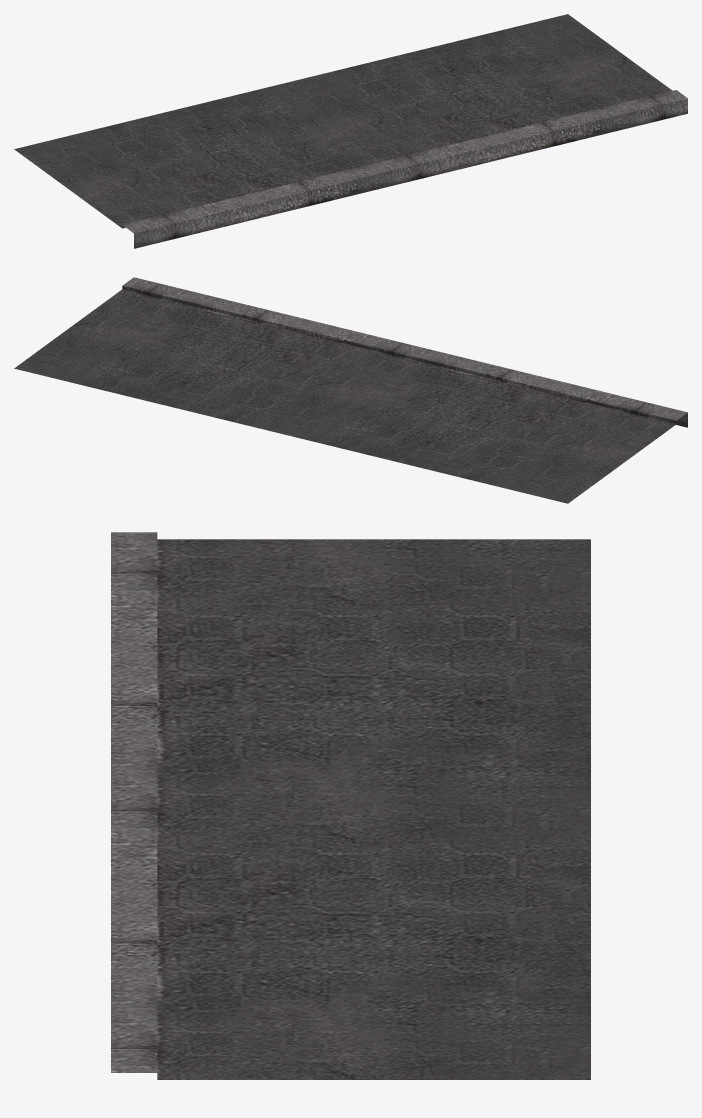
Rendered from 2 line path.FBX.
The picture shows the model from 3 angles, top to bottom: view 1: azimuth 30°, elevation 25°; view 2: azimuth 150°, elevation 25°; view 3: azimuth 270°, elevation 25°; orthographic projection. The views are drawn at different scales.
Parts seen in each view (by area): view 1: Object075; view 2: Object075; view 3: Object075.
Part boxes in pixels (x1,y1,x2,y2): Object075: [14, 14, 687, 248]; Object075: [14, 277, 687, 503]; Object075: [111, 532, 590, 1079].
Size of the model in its own units: 12 by 0.3184 by 4.5.
